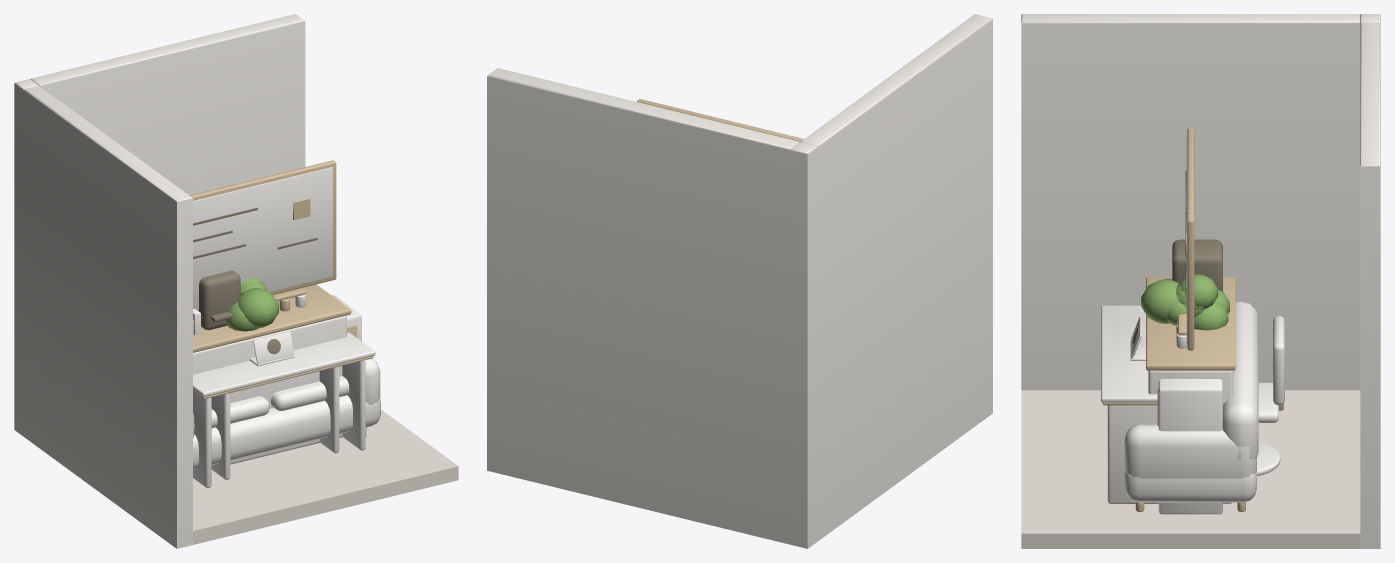
The model's file is office-kit.glb.
3 views of the same model, side by side, from view 1: azimuth 30°, elevation 25°; view 2: azimuth 150°, elevation 25°; view 3: azimuth 270°, elevation 25° (orthographic). The views are drawn at different scales.
Parts seen in each view (by area): view 1: room.wall_left, room.wall_back, room.floor_tile, prop.whiteboard, prop.coffee_bar, prop.sofa, desk.chief, desk.set, room.corner, prop.plant, prop.shelf; view 2: room.wall_back, room.wall_left, room.corner, prop.whiteboard; view 3: room.wall_left, room.floor_tile, prop.sofa, room.wall_back, prop.coffee_bar, desk.chief, prop.shelf, prop.plant, desk.set, prop.whiteboard.
Boxes of the visible parts, x1=… form: room.wall_left: x1=23, y1=85, x2=192, y2=548; room.wall_back: x1=30, y1=14, x2=305, y2=195; room.floor_tile: x1=193, y1=409, x2=458, y2=544; prop.whiteboard: x1=189, y1=160, x2=336, y2=317; prop.coffee_bar: x1=193, y1=270, x2=351, y2=464; prop.sofa: x1=193, y1=358, x2=380, y2=469; desk.chief: x1=193, y1=332, x2=375, y2=488; desk.set: x1=206, y1=331, x2=346, y2=479; room.corner: x1=14, y1=79, x2=38, y2=435; prop.plant: x1=226, y1=278, x2=278, y2=331; prop.shelf: x1=193, y1=295, x2=361, y2=341; room.wall_back: x1=487, y1=68, x2=799, y2=544; room.wall_left: x1=801, y1=14, x2=992, y2=540; room.corner: x1=789, y1=142, x2=818, y2=548; prop.whiteboard: x1=637, y1=99, x2=803, y2=141; room.wall_left: x1=1021, y1=14, x2=1360, y2=390; room.floor_tile: x1=1021, y1=390, x2=1360, y2=548; prop.sofa: x1=1124, y1=301, x2=1258, y2=511; room.wall_back: x1=1360, y1=22, x2=1380, y2=548; prop.coffee_bar: x1=1146, y1=239, x2=1235, y2=503; desk.chief: x1=1101, y1=305, x2=1284, y2=503; prop.shelf: x1=1157, y1=379, x2=1222, y2=514; prop.plant: x1=1141, y1=274, x2=1229, y2=330; desk.set: x1=1111, y1=316, x2=1284, y2=475; prop.whiteboard: x1=1178, y1=128, x2=1194, y2=350.
Bounding box in the file's own units: 2.12 × 2.5 × 2.12.
